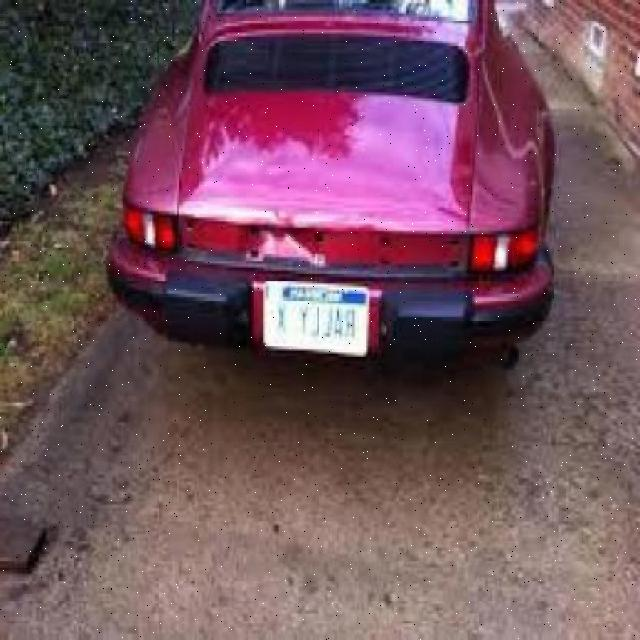damage: (233, 208, 320, 272)
